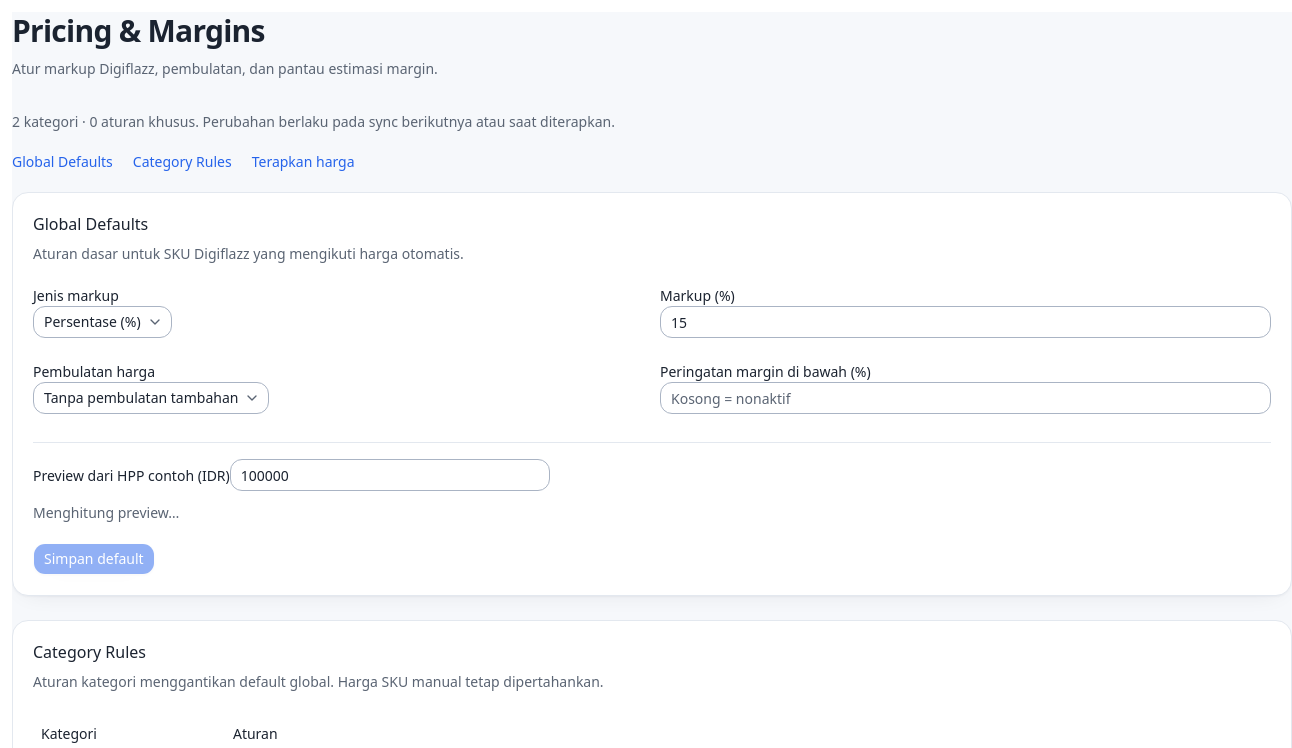
Test: PricingPage › ignores stale preview responses and aborts superseded requests
Replace the text in the field labelled "Markup (%)" with "20": (966, 322) [660, 306, 1271, 338]
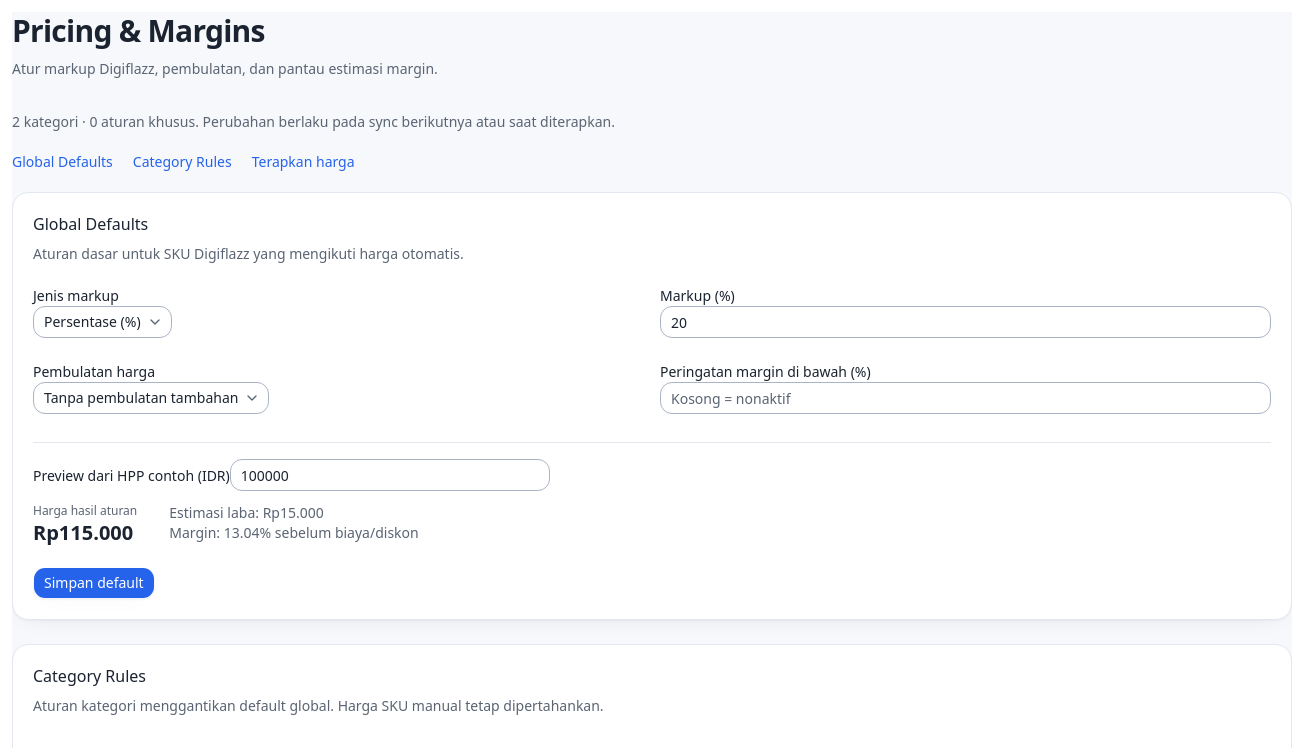
Expected: the text "Rp115.000" is shown, [33, 519, 137, 547]
